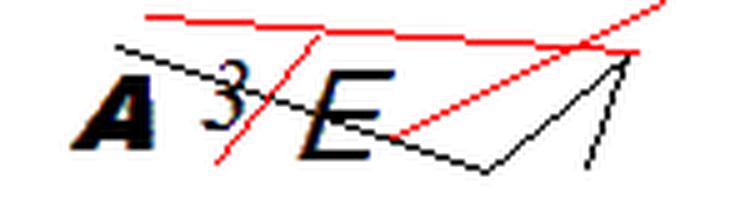3: (189, 54, 256, 142)
A: (64, 67, 170, 162)
E: (291, 60, 400, 168)
